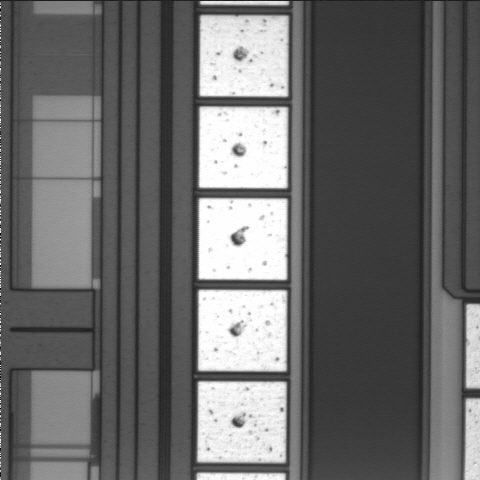pad: (197, 381, 286, 463), (200, 15, 288, 97), (199, 198, 287, 280), (199, 107, 288, 188), (198, 290, 287, 371)
